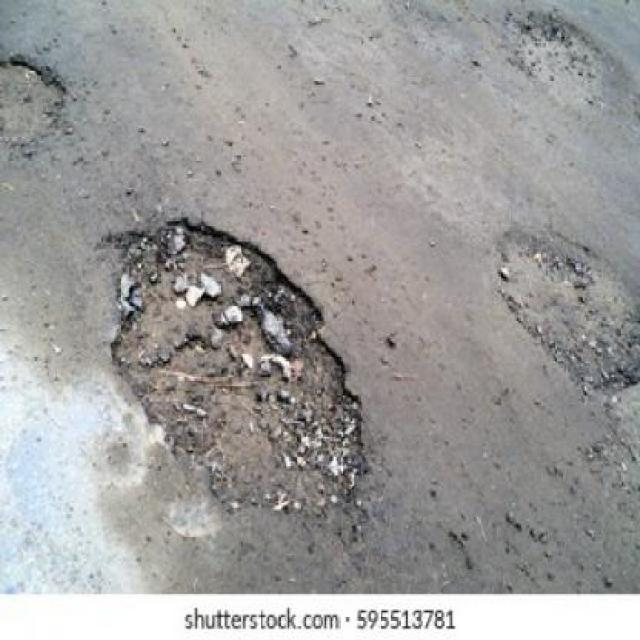Pothole: (92, 211, 375, 567), (487, 227, 640, 411), (0, 50, 70, 146)
